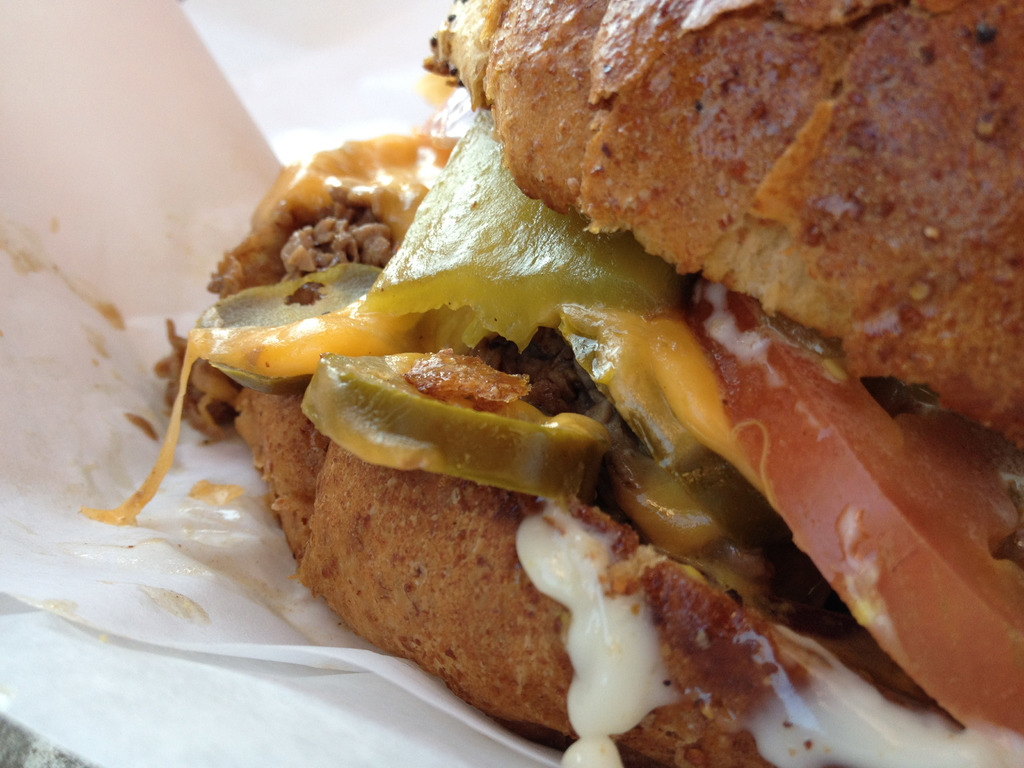Hamburger: (73, 0, 1023, 767)
